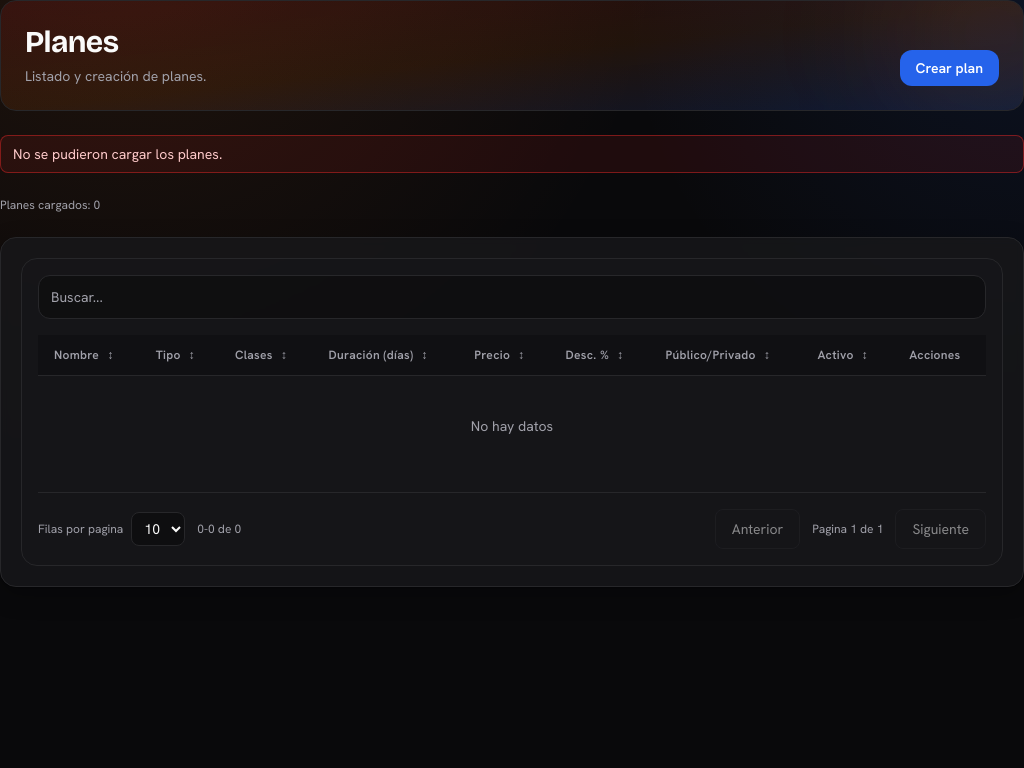
PlanListPage — plan gratuito con config en 0 (modal bloqueante) › el modal bloqueante ofrece un acceso a la pantalla de configuración
Click the button "Crear plan" at (949, 68), box [900,50,999,86]
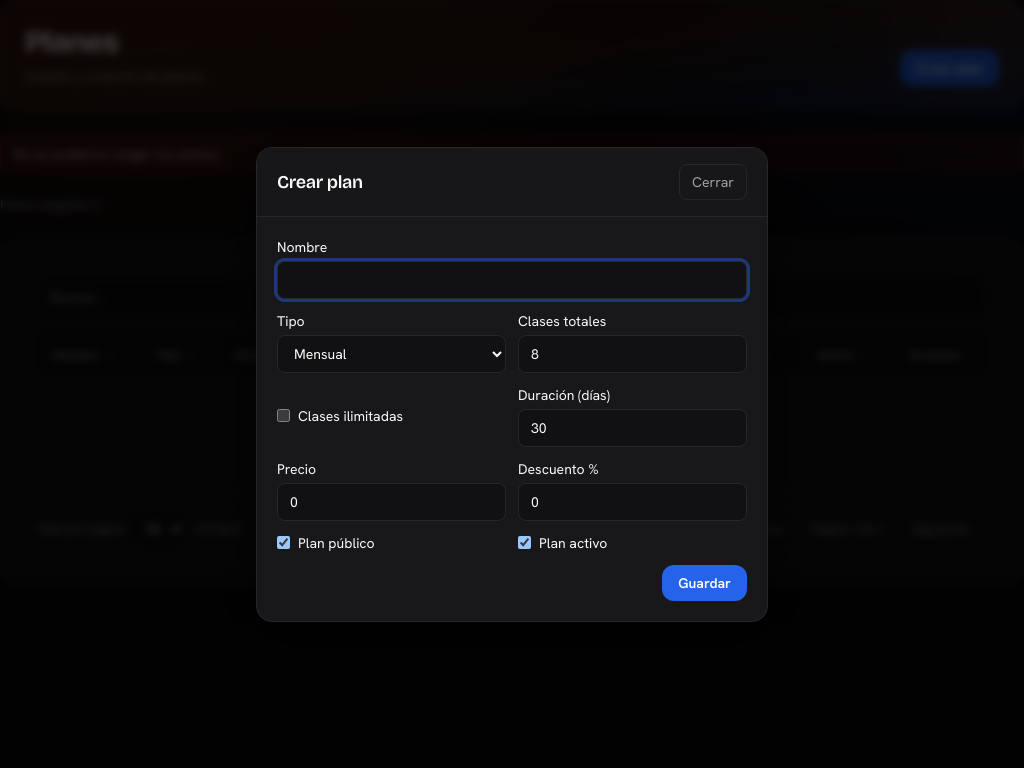
Type "Plan Gratis" into the field labelled "Nombre" at (512, 280), box [277,260,747,298]
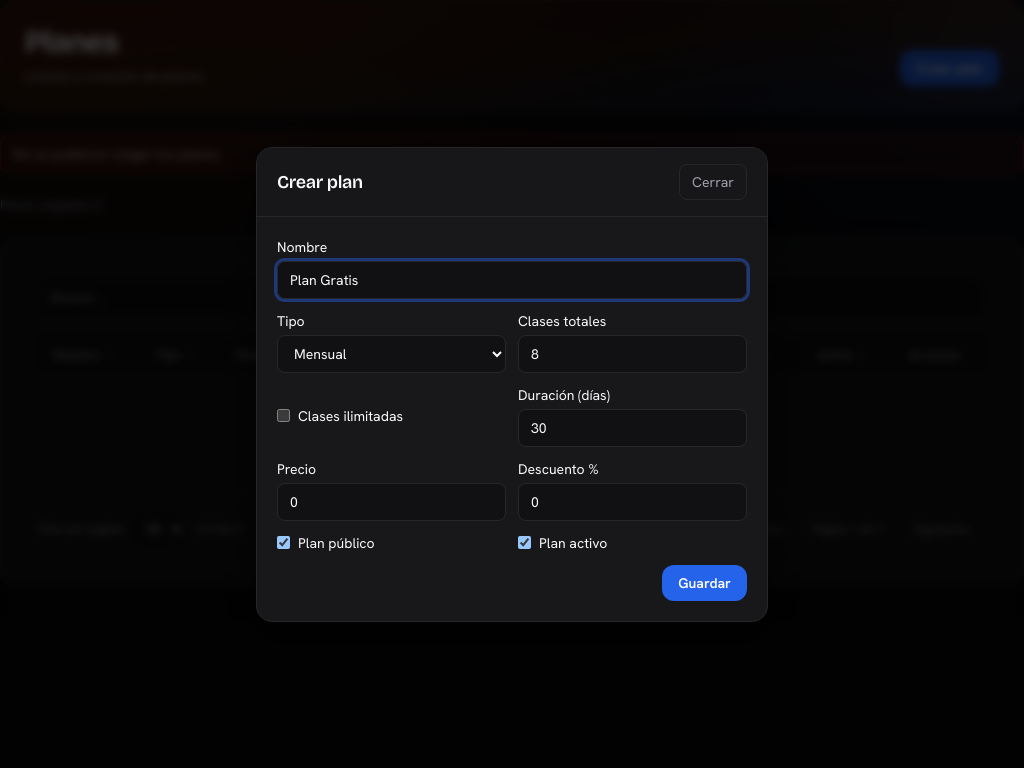
Replace the text in the number field labelled "Descuento %" with "100" at (632, 502), box [518,482,747,520]
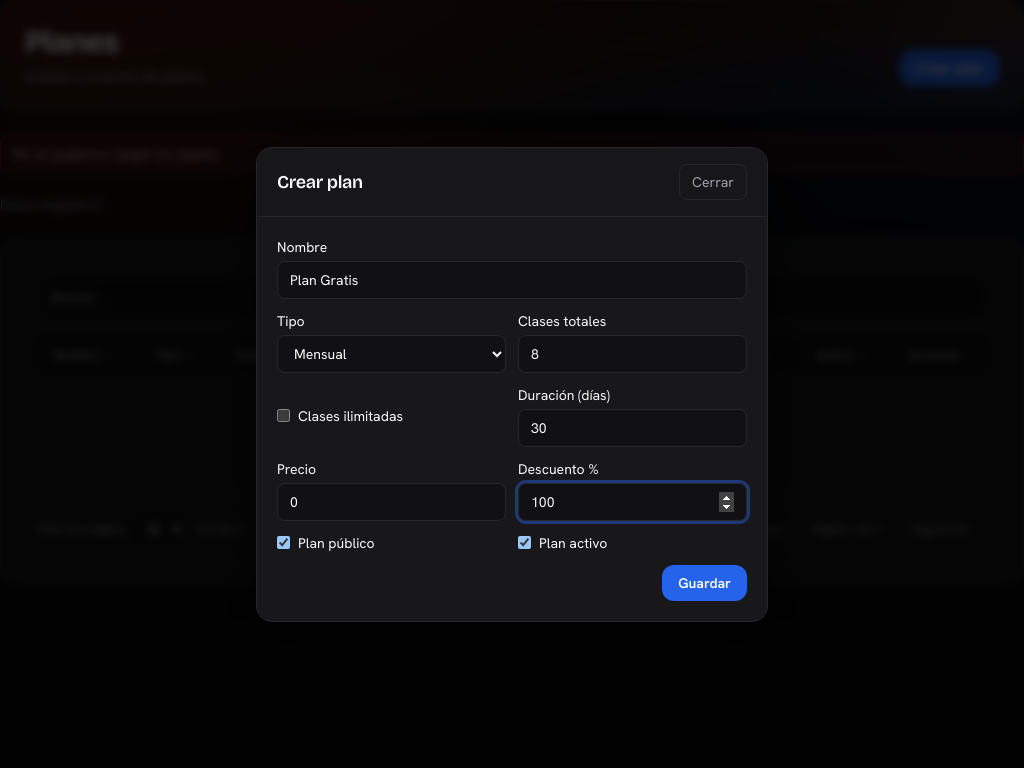
Click the button "Guardar" at (705, 582), box [662,564,747,600]
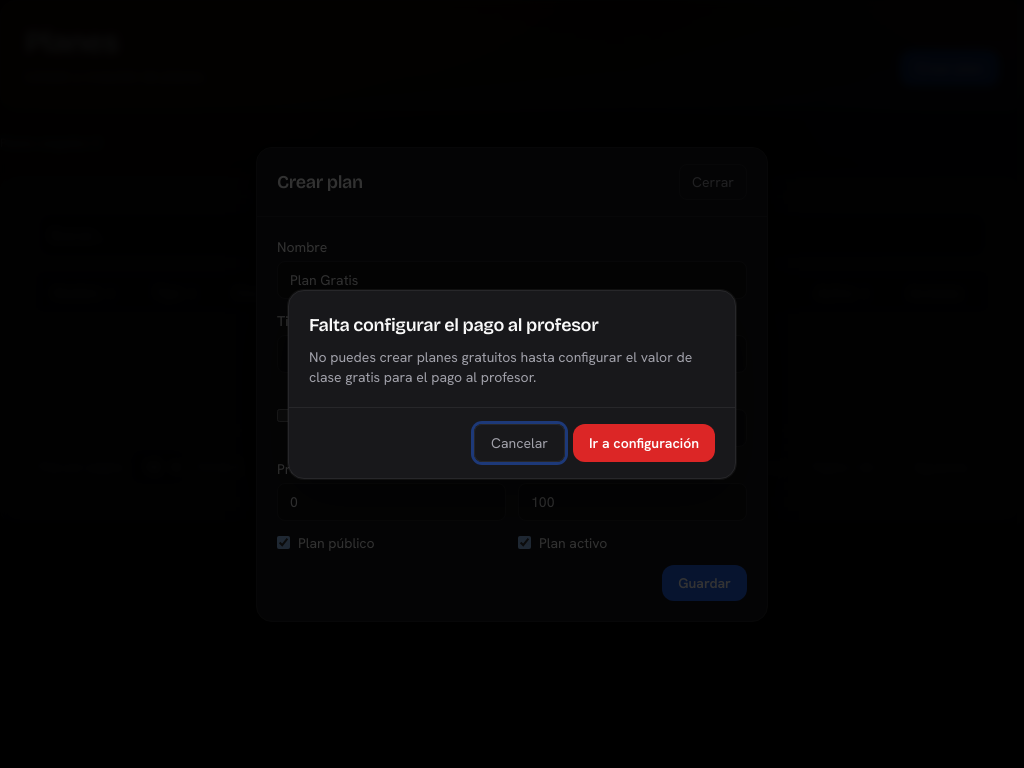
Expected: the button "Ir a configuración" is shown, [573,424,715,462]
